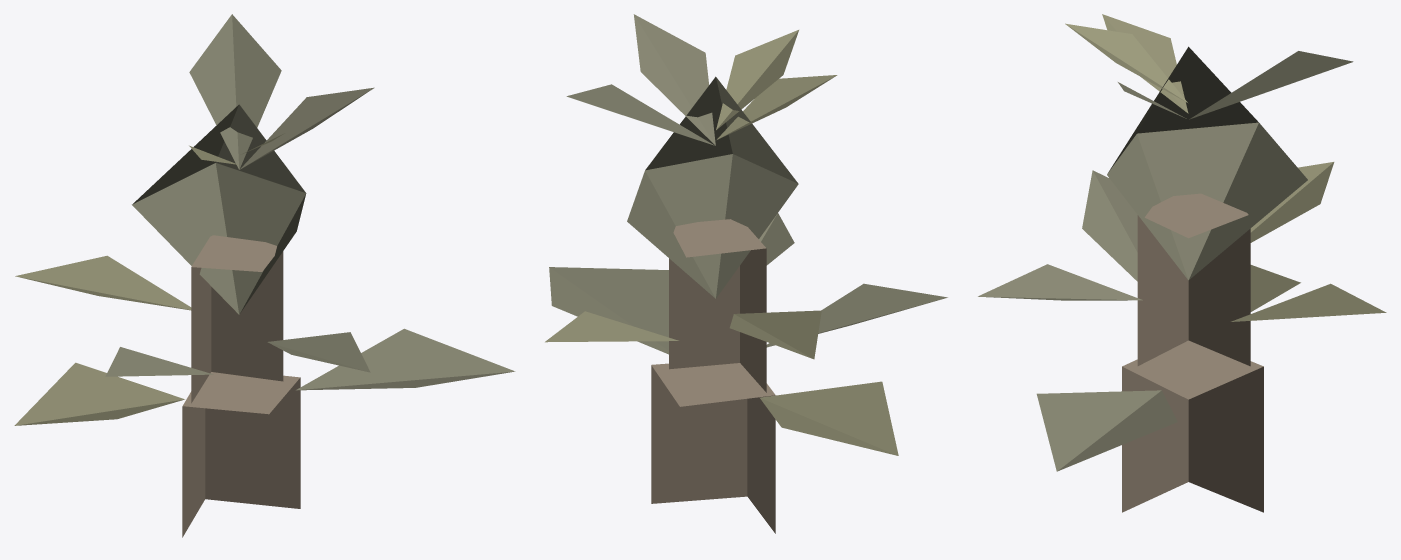
Rendered from cao.hanji@seedling__winter.glb.
3 renders of one model, left to right at view 1: azimuth 30°, elevation 25°; view 2: azimuth 150°, elevation 25°; view 3: azimuth 270°, elevation 25°, orthographic. The views are drawn at different scales.
Parts seen in each view (by area): view 1: cao.hanji@seedling__winter; view 2: cao.hanji@seedling__winter; view 3: cao.hanji@seedling__winter.
Boxes of the visible parts, <box> form: cao.hanji@seedling__winter: <box>14,14,515,537</box>; cao.hanji@seedling__winter: <box>545,14,947,533</box>; cao.hanji@seedling__winter: <box>978,14,1386,512</box>.
Bounding box in the file's own units: 0.1137 × 0.1146 × 0.0873.
